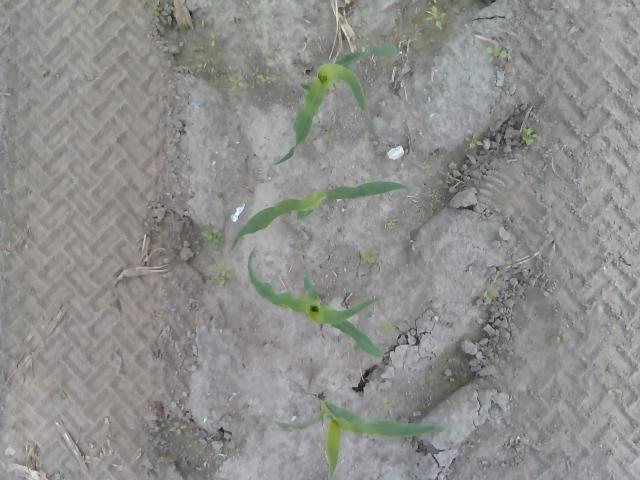Maize: (246, 247, 388, 366), (272, 44, 398, 168), (271, 396, 447, 480), (229, 180, 412, 249)
Weeds: (200, 227, 225, 250), (425, 5, 448, 29), (487, 46, 512, 64), (214, 268, 233, 288), (463, 132, 483, 148), (168, 420, 188, 436), (361, 248, 378, 265), (254, 72, 272, 88), (228, 74, 245, 90), (521, 128, 536, 146), (384, 318, 396, 336), (416, 159, 432, 172), (606, 383, 622, 395), (190, 62, 208, 72), (482, 287, 492, 305), (154, 6, 169, 18), (208, 32, 218, 50), (556, 328, 568, 342), (142, 216, 156, 227), (324, 128, 337, 139), (383, 398, 394, 409), (388, 220, 396, 230), (208, 0, 216, 8)
